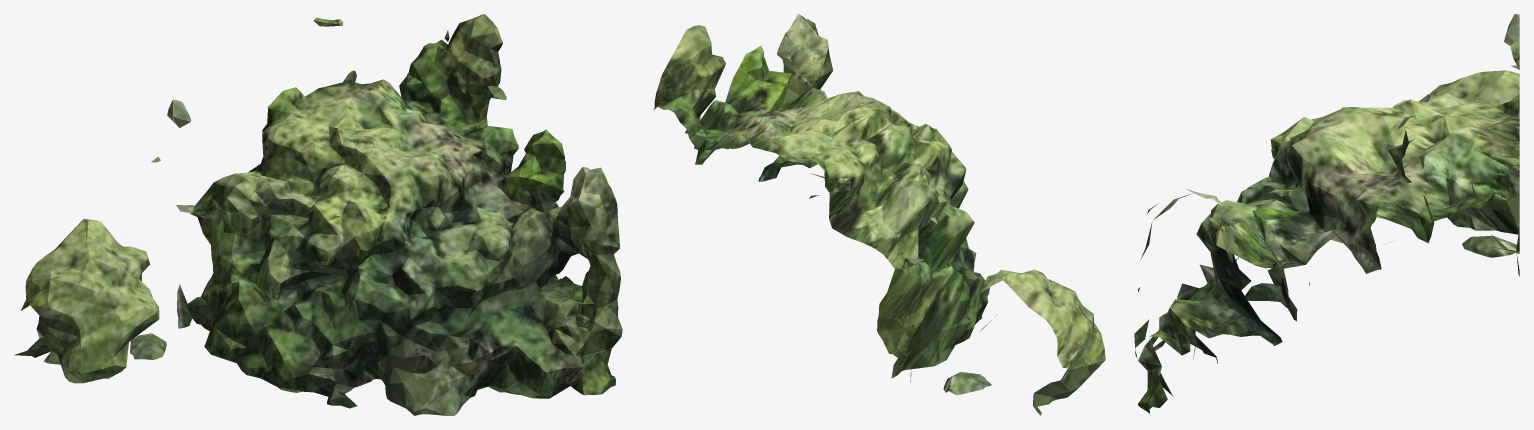
3 views of the same model, side by side, from view 1: azimuth 30°, elevation 25°; view 2: azimuth 150°, elevation 25°; view 3: azimuth 270°, elevation 25° (orthographic). The views are drawn at different scales.
Bounding box in the file's own units: 26.11 × 15.96 × 18.25.
3 materials, 3 textured.
